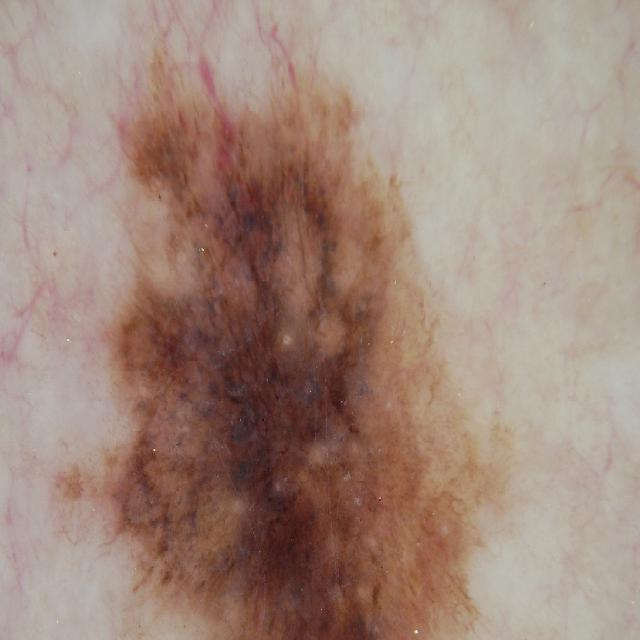Melanoma: (87, 61, 560, 640)
